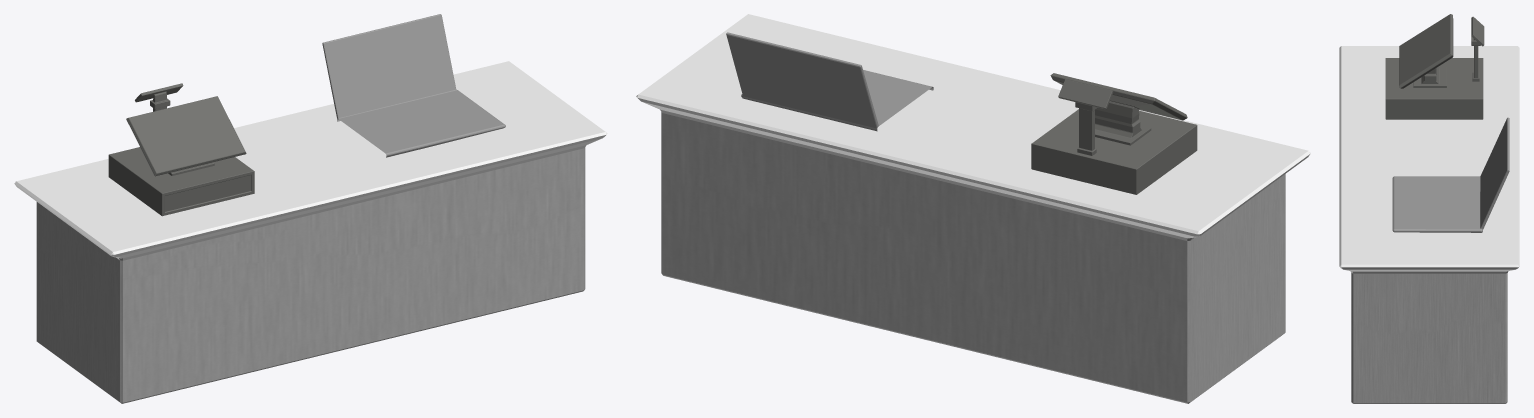
Rendered from checkoutcounter.fbx.
The picture shows the model from 3 angles, left to right: view 1: azimuth 30°, elevation 25°; view 2: azimuth 150°, elevation 25°; view 3: azimuth 270°, elevation 25°; orthographic projection. The views are drawn at different scales.
Visible parts, largest first — view 1: Table.checkout, LapTop, Cashier; view 2: Table.checkout, Cashier, LapTop; view 3: Table.checkout, Cashier, LapTop.
Boxes of the visible parts, left/top/right/bottom form: Table.checkout: left=14, top=61, right=607, bottom=403; LapTop: left=322, top=14, right=505, bottom=157; Cashier: left=108, top=83, right=254, bottom=216; Table.checkout: left=636, top=14, right=1310, bottom=403; Cashier: left=1031, top=73, right=1197, bottom=194; LapTop: left=726, top=32, right=933, bottom=131; Table.checkout: left=1339, top=46, right=1519, bottom=403; Cashier: left=1385, top=14, right=1484, bottom=119; LapTop: left=1392, top=117, right=1509, bottom=232.
Size of the model in its own units: 312 by 145 by 108.
4 materials, 2 textured.
